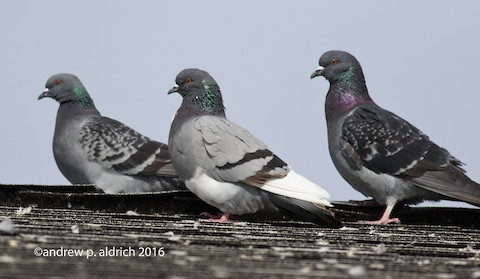pigeon: (165, 65, 356, 228), (308, 49, 477, 233), (36, 71, 212, 197)
